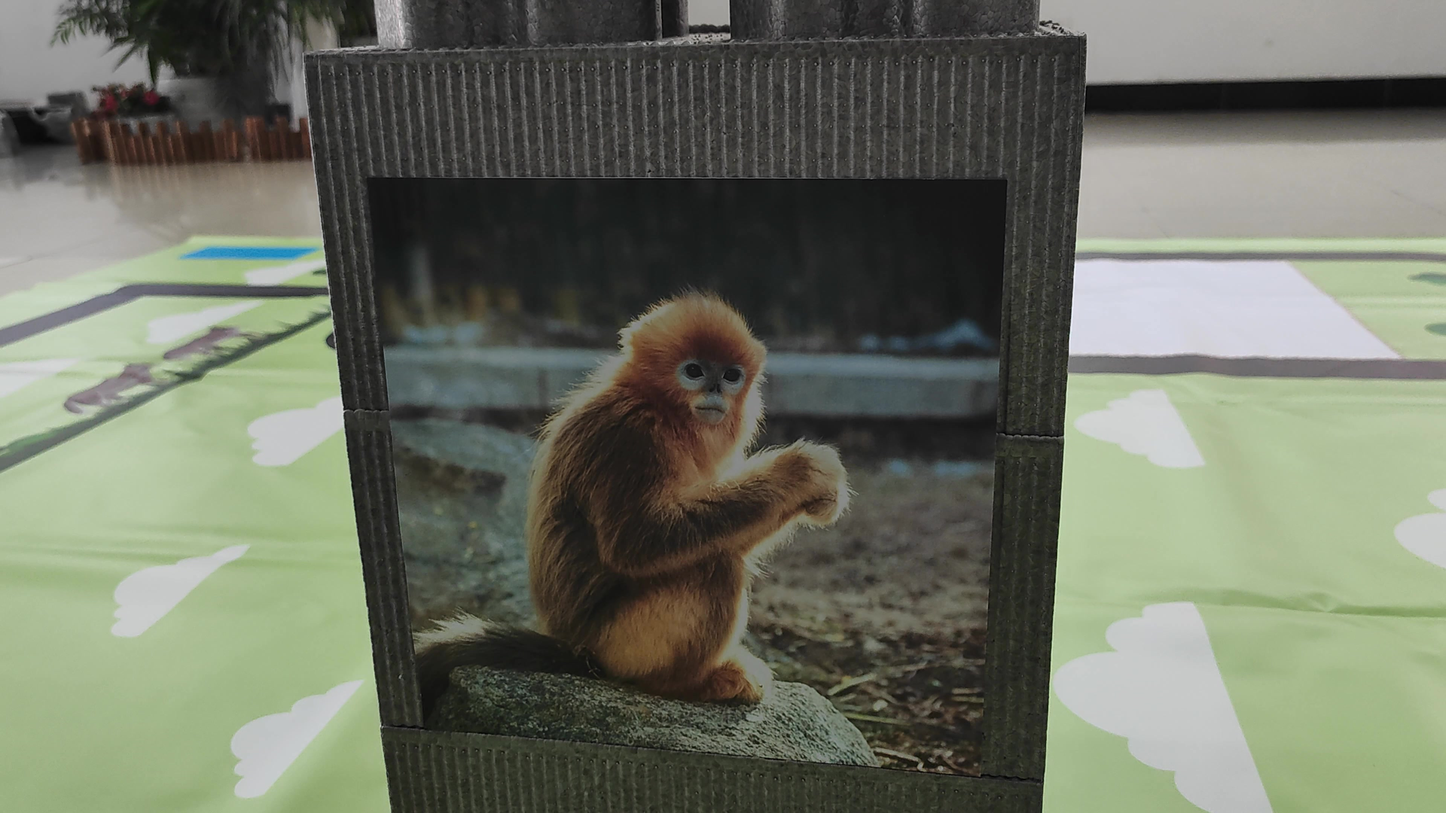monkey: (406, 243, 882, 751)
